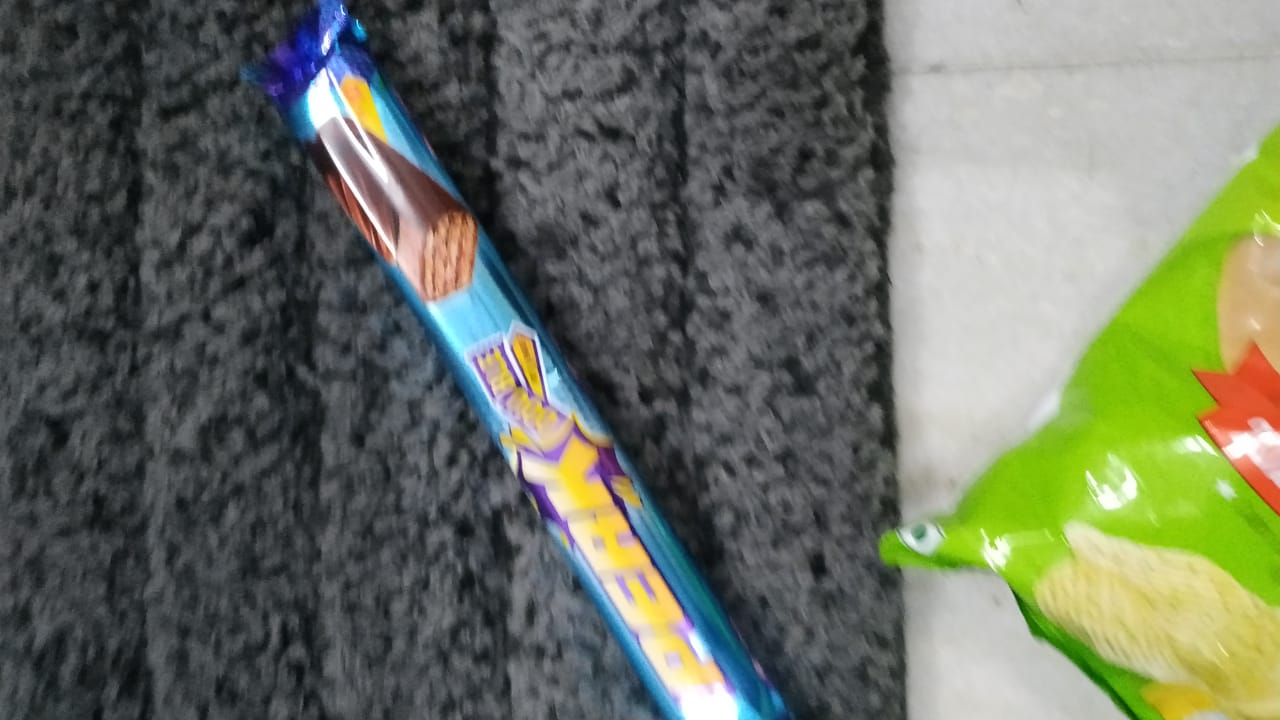perk: (239, 20, 784, 712)
